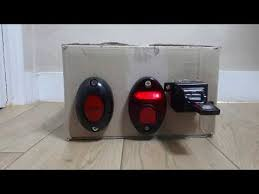bell: (125, 74, 170, 140)
